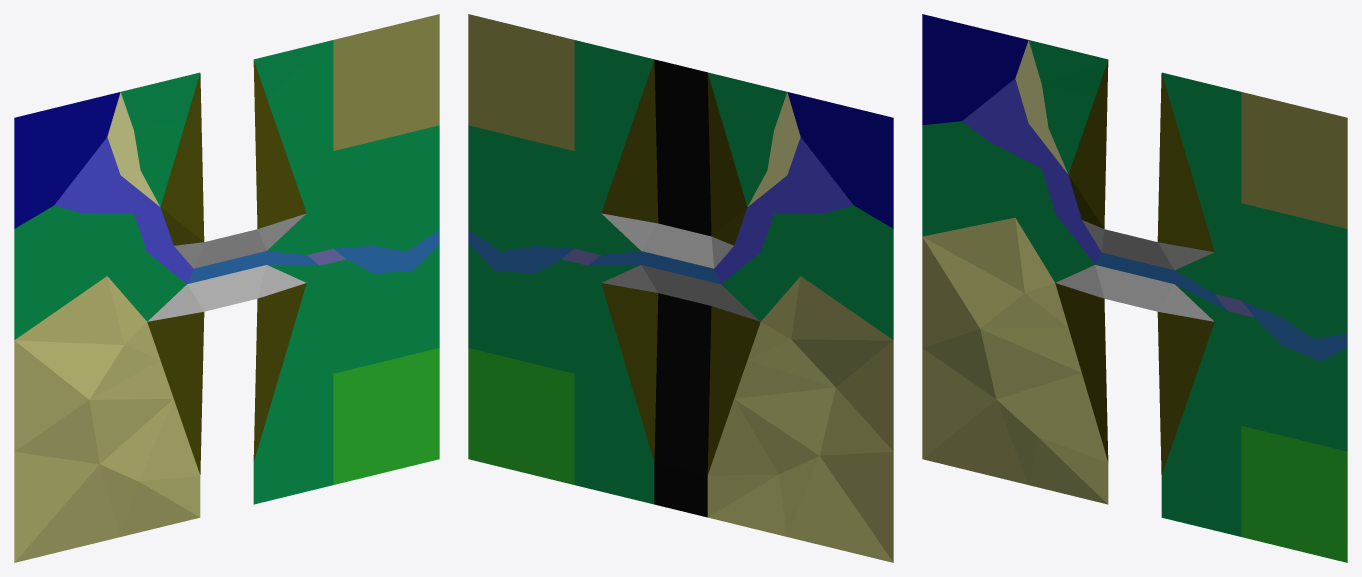
The model's file is tiles1_4.obj.
3 views of the same model, side by side, from view 1: azimuth 30°, elevation 25°; view 2: azimuth 150°, elevation 25°; view 3: azimuth 330°, elevation 25° (orthographic).
Visible parts, largest first — view 1: tiles1_4; view 2: tiles1_4; view 3: tiles1_4.
Part boxes in pixels (x1=…): tiles1_4: x1=14, y1=14, x2=439, y2=562; tiles1_4: x1=468, y1=14, x2=893, y2=562; tiles1_4: x1=922, y1=14, x2=1347, y2=562.
Size of the model in its own units: 4.1 by 4.1 by 0.144.
